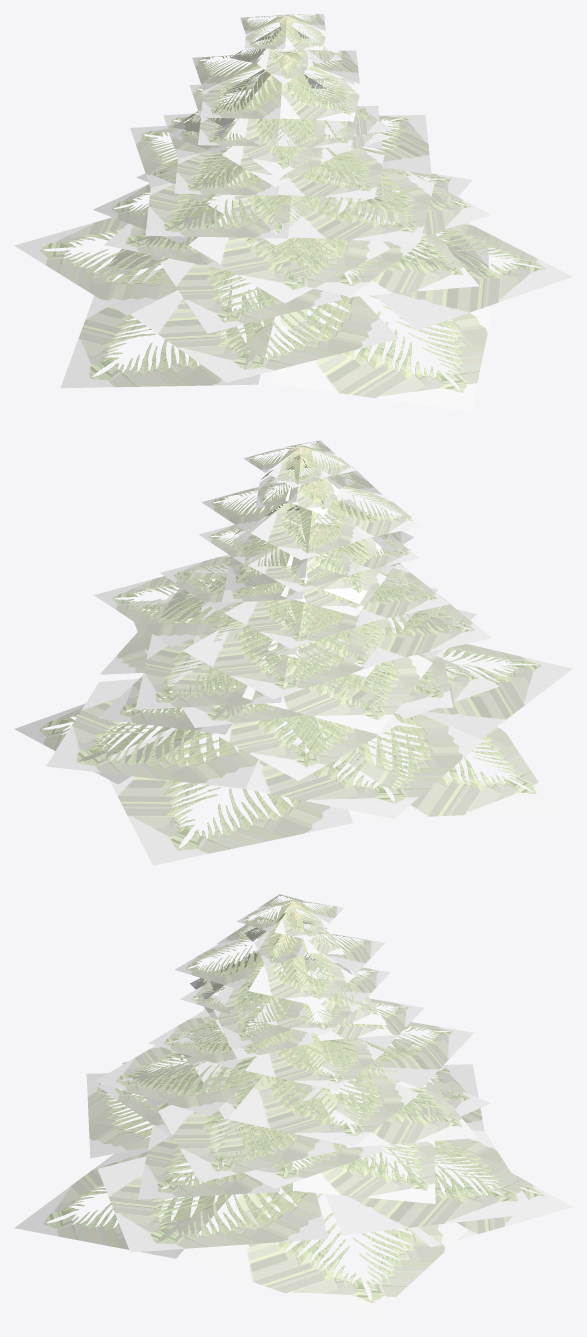
The model's file is leaves.fbx.
The picture shows the model from 3 angles, top to bottom: view 1: azimuth 30°, elevation 25°; view 2: azimuth 150°, elevation 25°; view 3: azimuth 270°, elevation 25°; orthographic projection. The views are drawn at different scales.
Parts seen in each view (by area): view 1: leaves; view 2: leaves; view 3: leaves.
Part boxes in pixels (x1,y1,x2,y2): leaves: (14, 14, 572, 411); leaves: (14, 440, 572, 865); leaves: (14, 894, 572, 1322).
Size of the model in its own units: 1.94 by 1.18 by 1.97.
